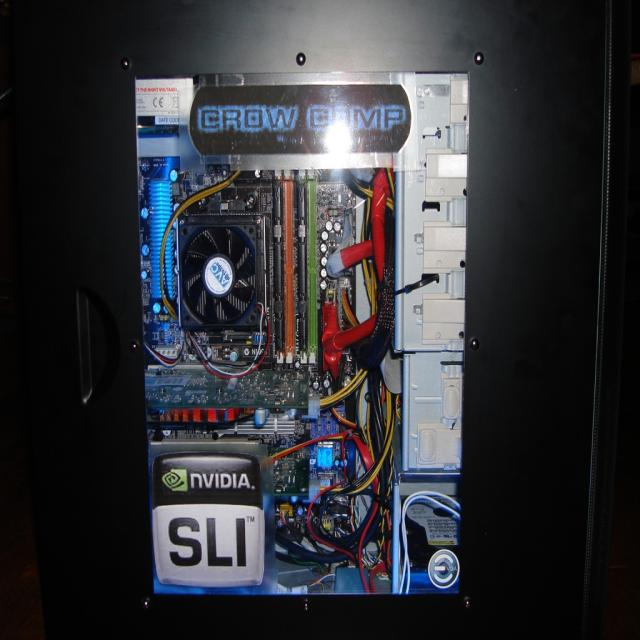nvidia: (162, 469, 189, 492)
